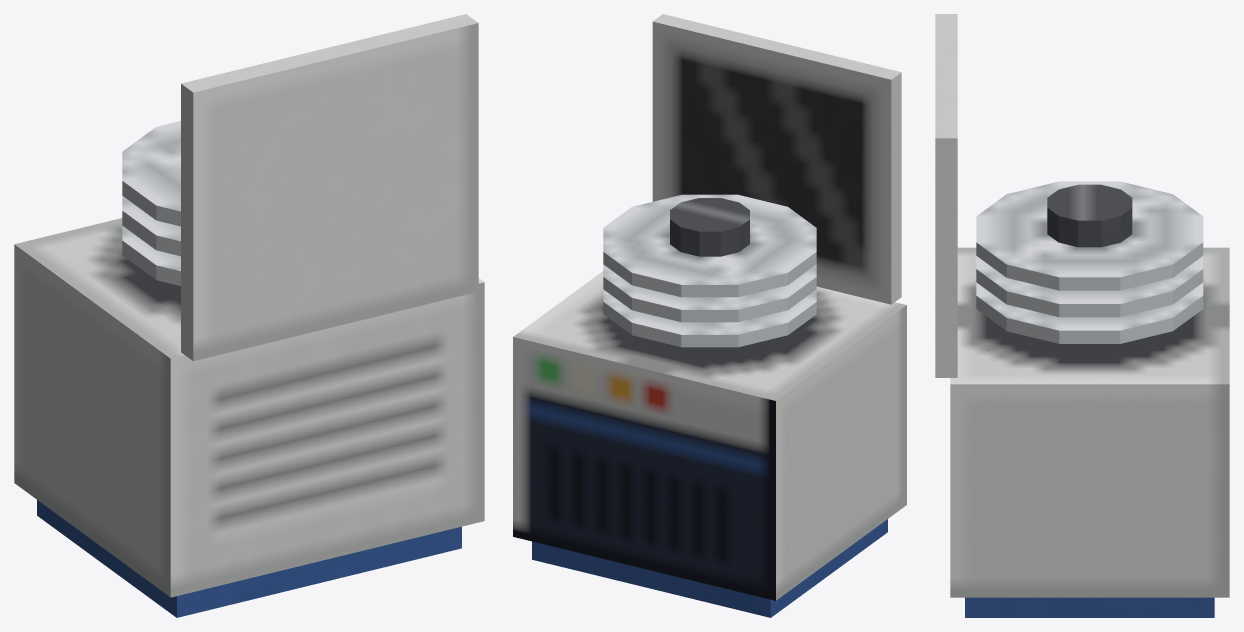
File: era4_disk_bank.obj
3 views of the same model, side by side, from view 1: azimuth 30°, elevation 25°; view 2: azimuth 150°, elevation 25°; view 3: azimuth 270°, elevation 25° (orthographic). The views are drawn at different scales.
Parts seen in each view (by area): view 1: era4_disk_bank; view 2: era4_disk_bank; view 3: era4_disk_bank.
Part boxes in pixels (box(x1,y1,x2,y2)): era4_disk_bank: box(14, 14, 484, 617); era4_disk_bank: box(513, 14, 906, 617); era4_disk_bank: box(935, 14, 1229, 617).
Bounding box in the file's own units: 1.38 × 2.25 × 1.25.
